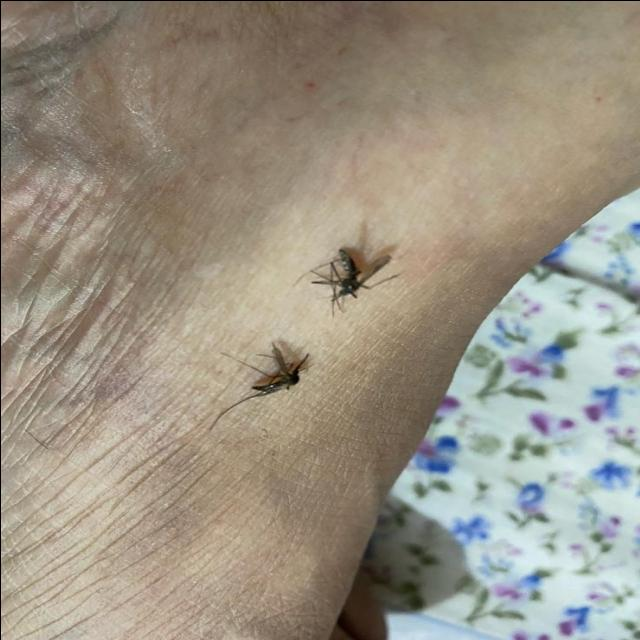Mosquito: (310, 238, 401, 306), (228, 338, 312, 401)
